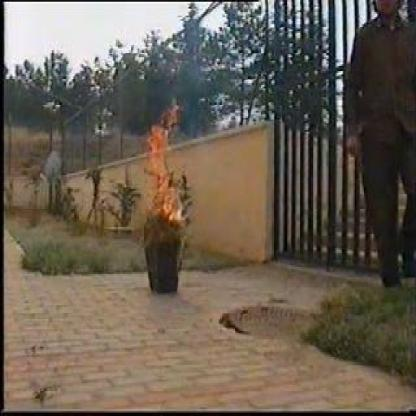foggia-v2-map80-epoch100 - v1 4323: (136, 97, 185, 220)
